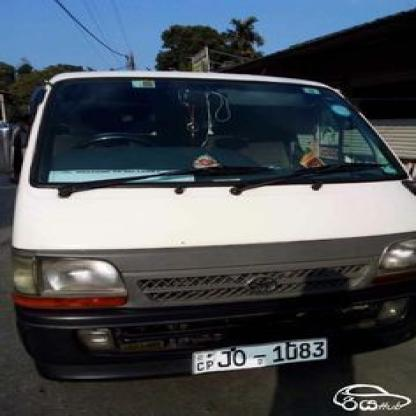number plate: (190, 338, 333, 372)
van front: (10, 68, 416, 385)
